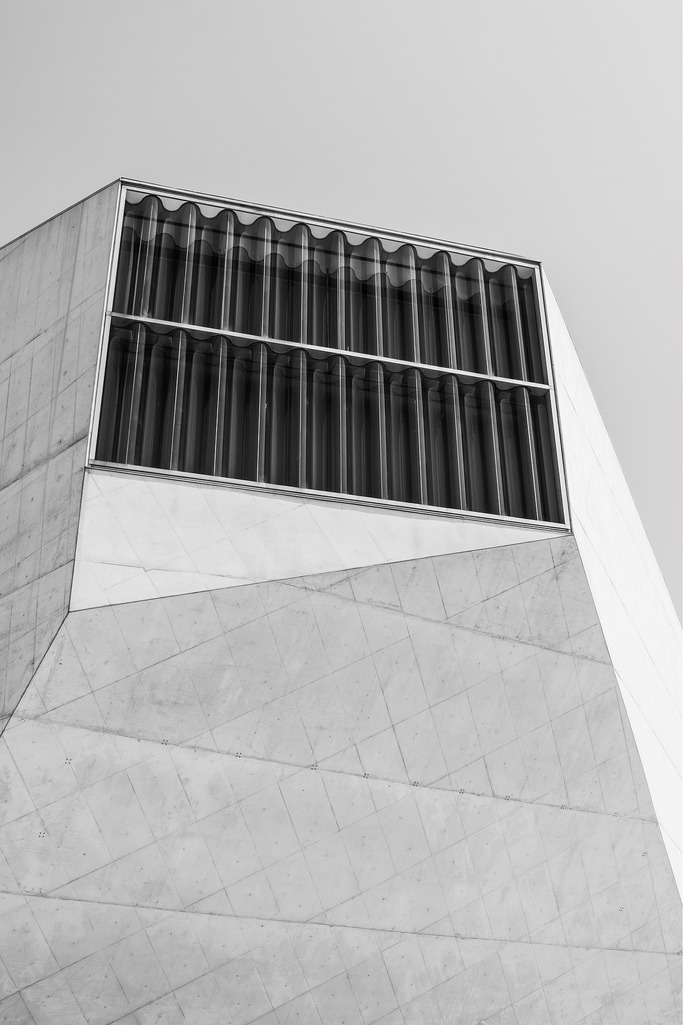musica: (0, 174, 682, 1024)
